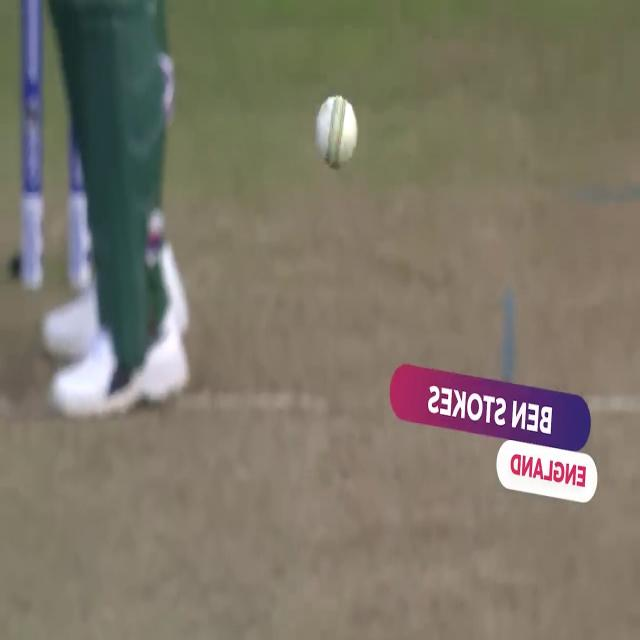ball: (313, 91, 360, 176)
